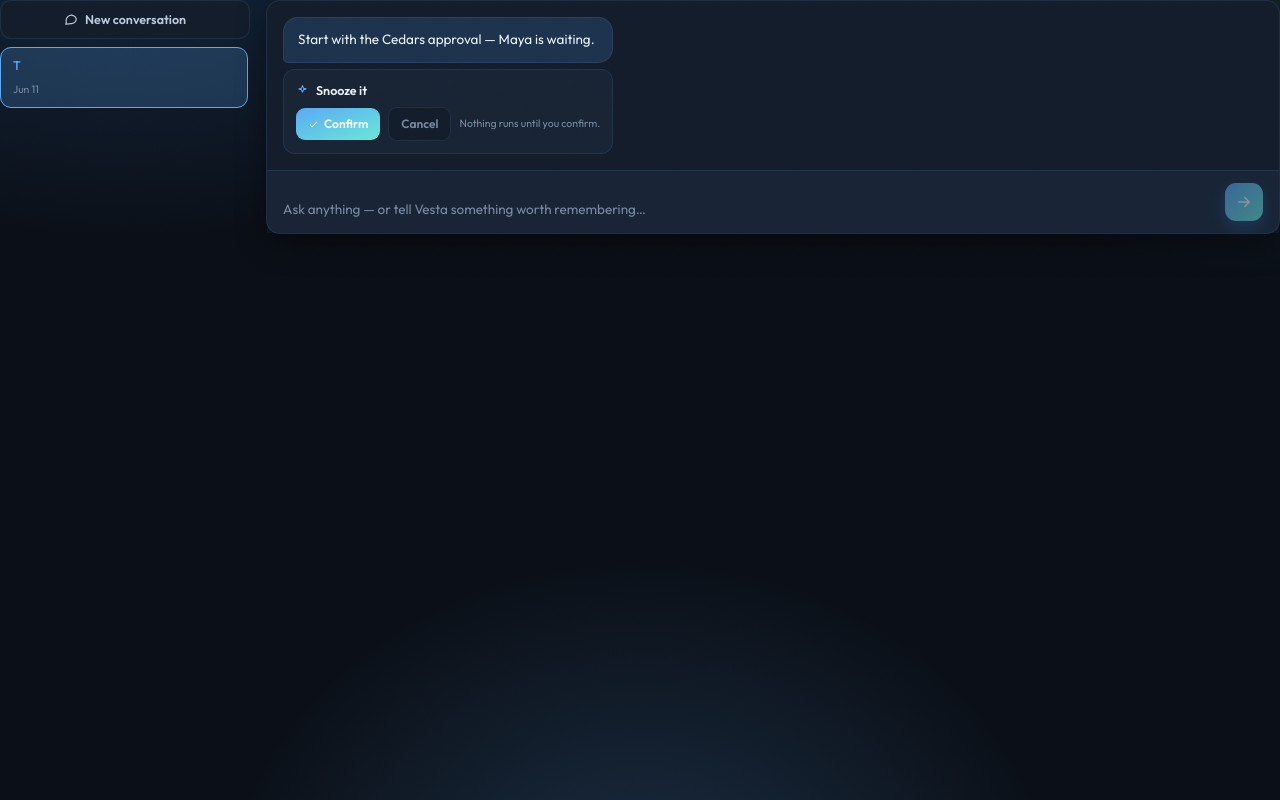
Test: ChatView › Cancel settles the card without executing
Click the button "Cancel" at (420, 124), box [388, 107, 451, 141]
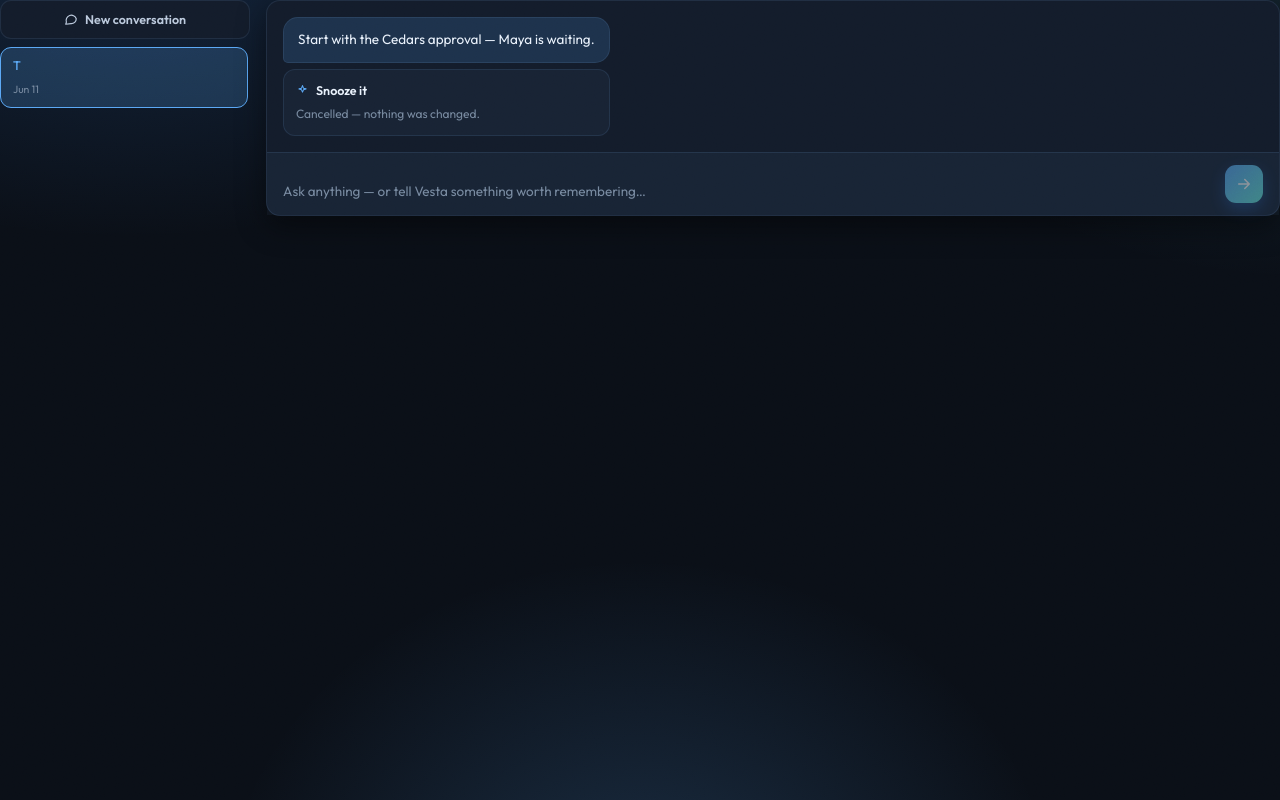
Result: the text "Cancelled — nothing was changed." is shown at [296, 106, 480, 121]
